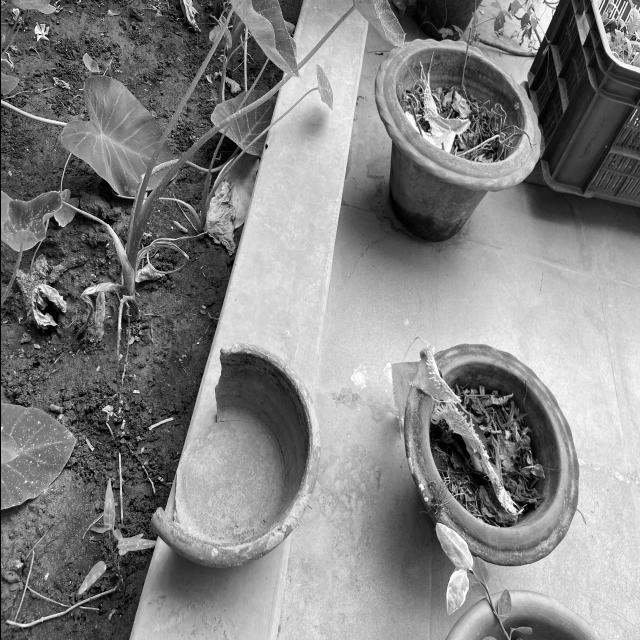Breeding Place: (402, 337, 578, 565), (150, 346, 310, 566), (370, 42, 542, 234), (524, 0, 640, 218)
